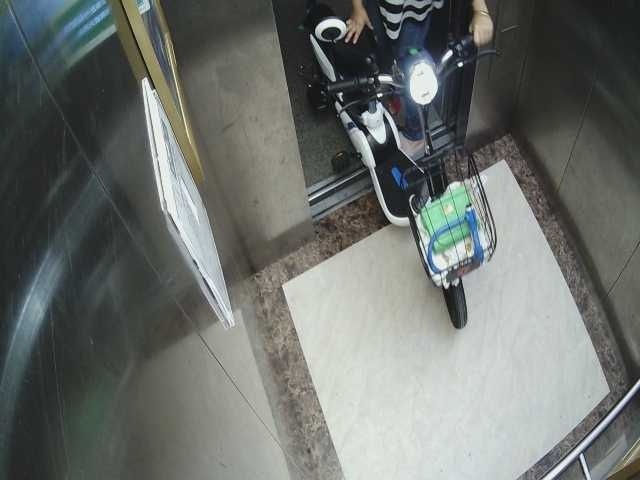emotor: (293, 3, 523, 330)
